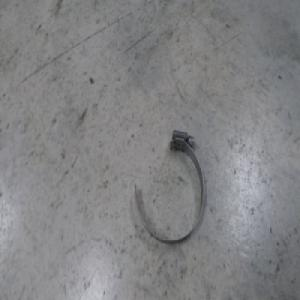AdjustableClamp: (137, 130, 207, 245)
